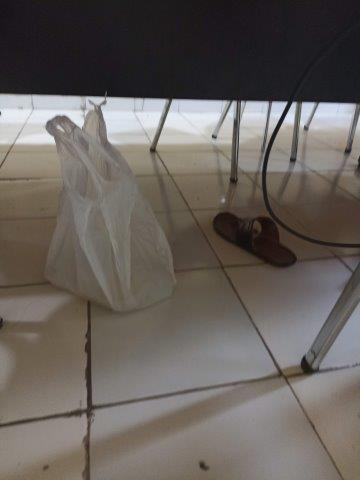plastik: (43, 107, 178, 313)
